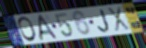5: (54, 12, 74, 38)
6: (72, 9, 93, 37)
A: (38, 14, 59, 43)
J: (97, 8, 111, 34)
O: (17, 16, 38, 43)
X: (106, 6, 132, 32)
